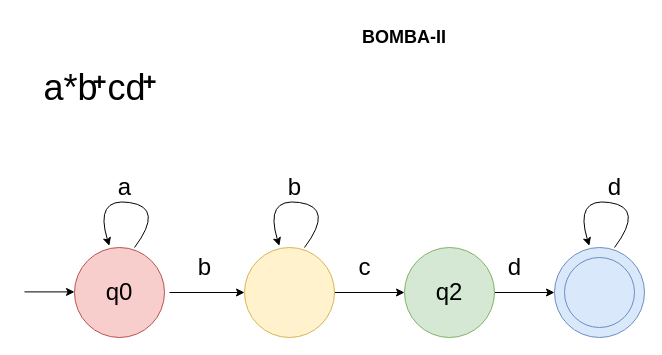
The diagram is 662 pixels wide and 355 high, and some of its shapes have lost their labels. The centre of each missing label's shape, as x and y in pixels:
"q1" belongs at pixel 289 292.
"q4" belongs at pixel 599 292.
